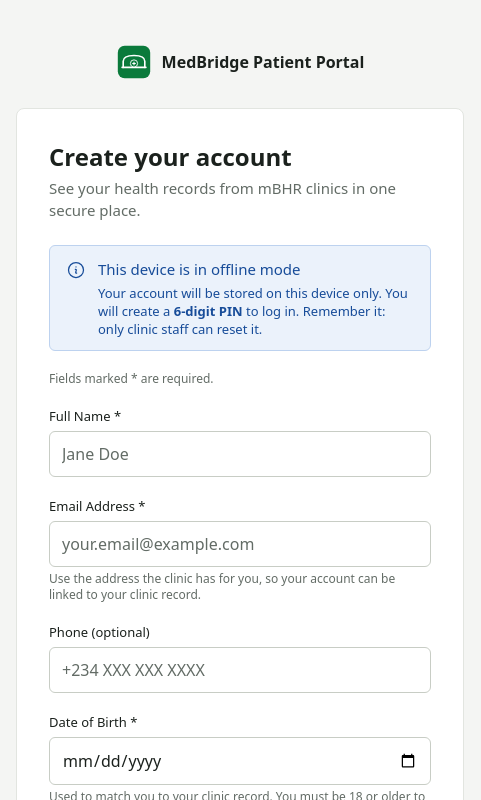
Scenario: PatientRegister (offline mode) › does not create the account while consent-terms is unticked
This screenshot has width=481, height=800.
Type "Ada Obi" into the field labelled "Full Name *" at (240, 454), box left=49, top=431, right=431, bottom=477
Type "ada@test.com" into the field labelled "Email Address *" at (240, 544), box left=49, top=521, right=431, bottom=567
Type "1990-01-01" into the date field labelled "Date of Birth *" at (240, 761), box left=49, top=737, right=431, bottom=785
(page scrolled)
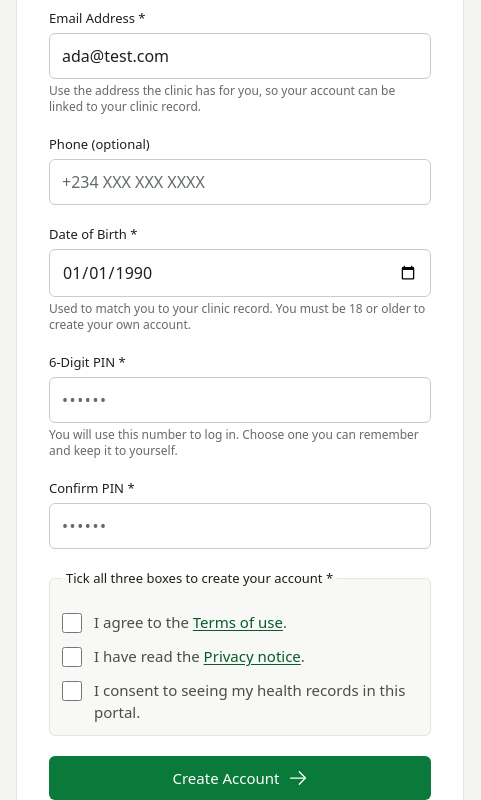
Type "555444" into the password field labelled "6-Digit PIN *" at (240, 400), box left=49, top=377, right=431, bottom=423
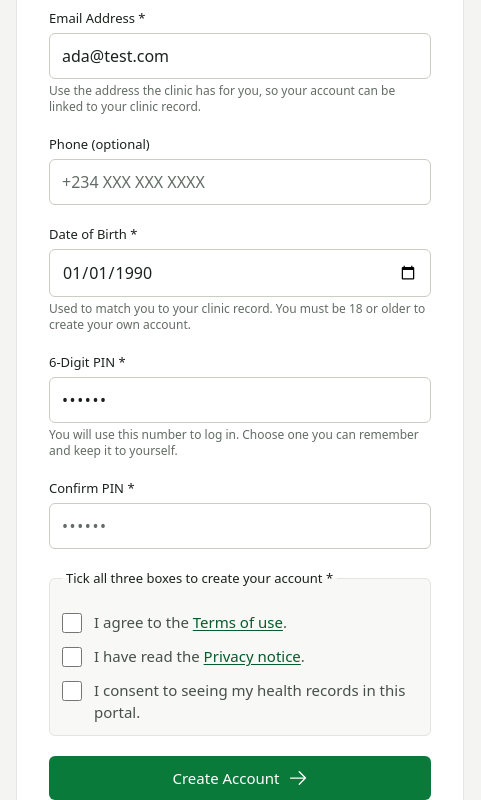
Type "555444" into the password field labelled "Confirm PIN *" at (240, 526), box left=49, top=503, right=431, bottom=549
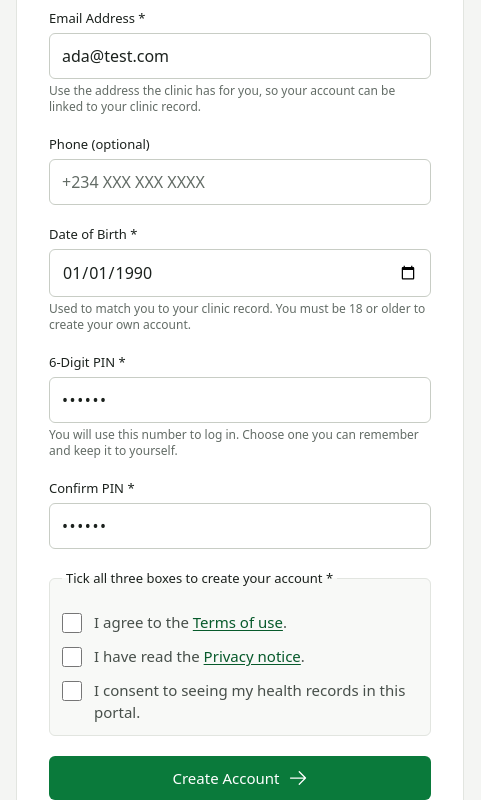
Click the checkbox with id "consent-privacy" at (72, 657), box left=62, top=647, right=82, bottom=667
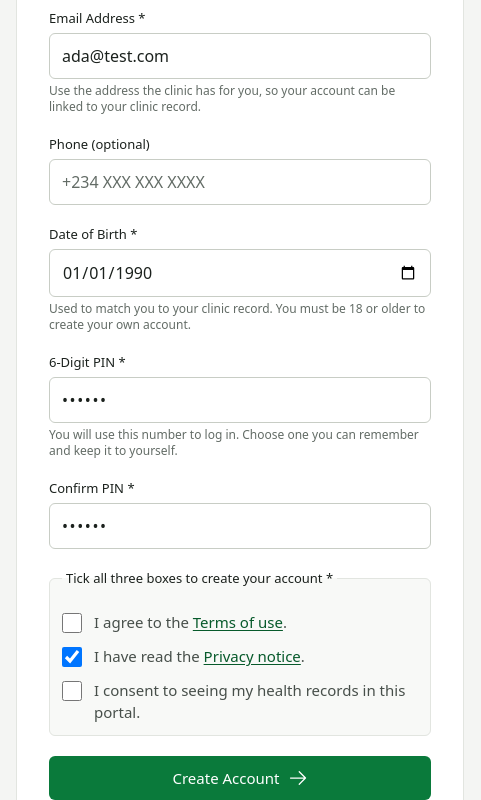
Click the checkbox with id "consent-records" at (72, 691), box left=62, top=681, right=82, bottom=701
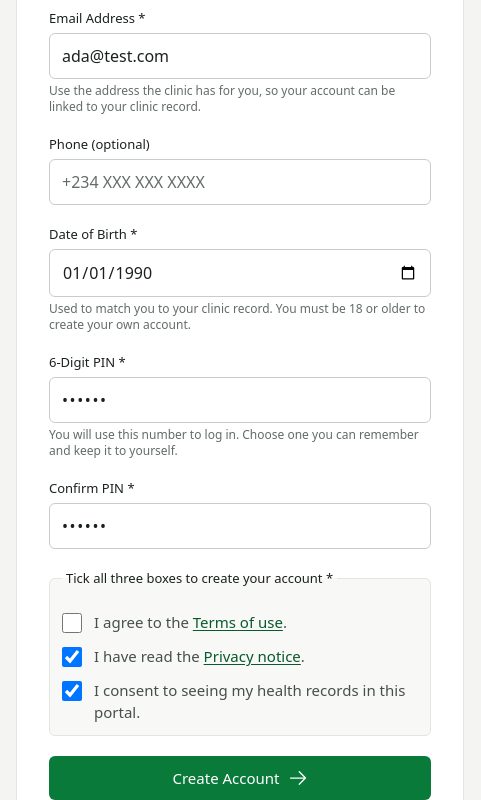
Submit the form from the button "Create Account", box left=49, top=756, right=431, bottom=799
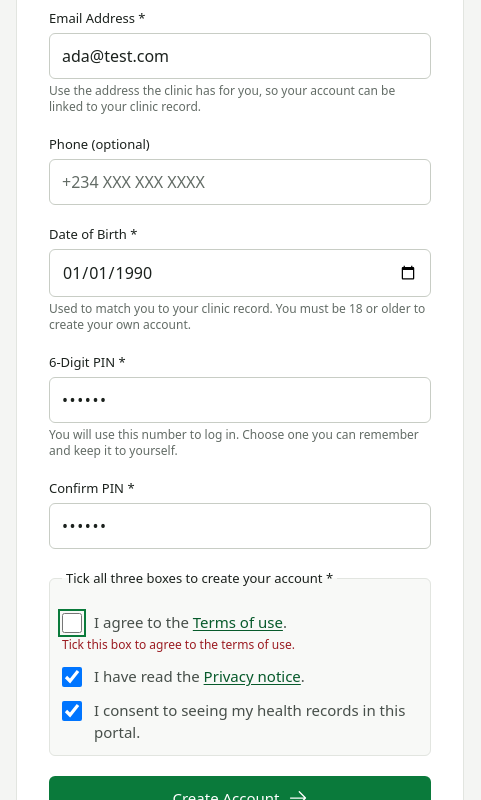
Result: the text "Tick this box to agree to the terms of use." is shown at left=62, top=636, right=295, bottom=653
